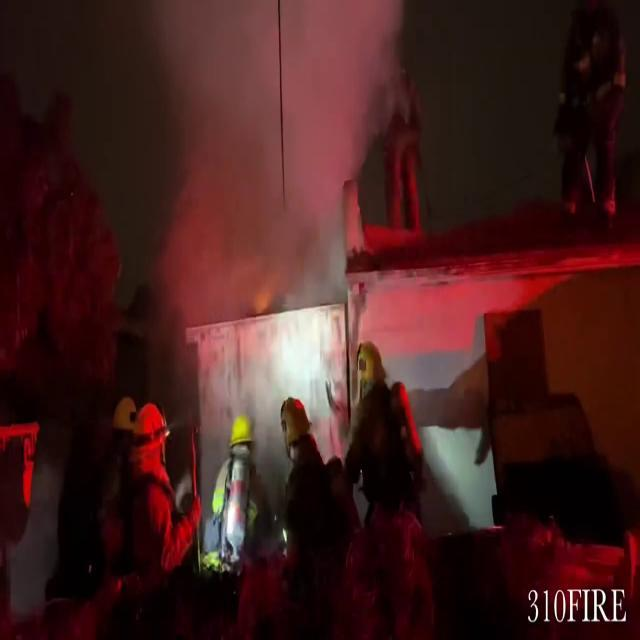Smoke: (152, 1, 406, 322)
